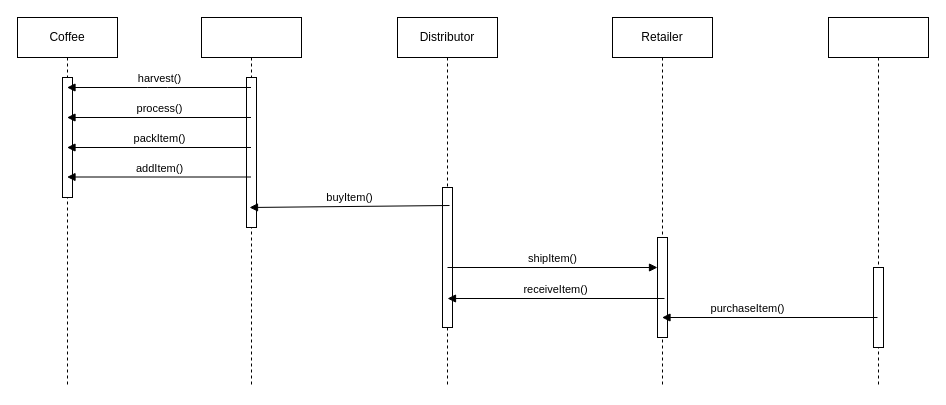
Image size: 946x405. Some labels were removed from this diagram. Each missing label, with the box of its shape:
Consumer: (828, 16, 928, 388)
Farmer: (200, 16, 302, 388)
